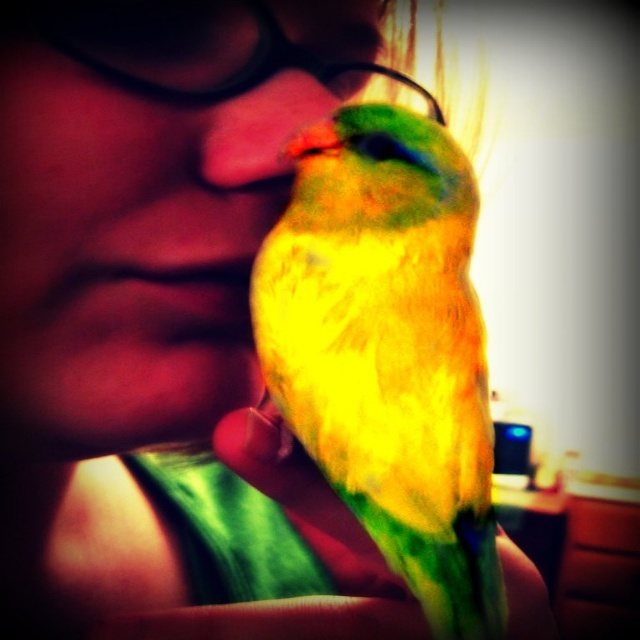Parrot: (250, 97, 498, 639)
